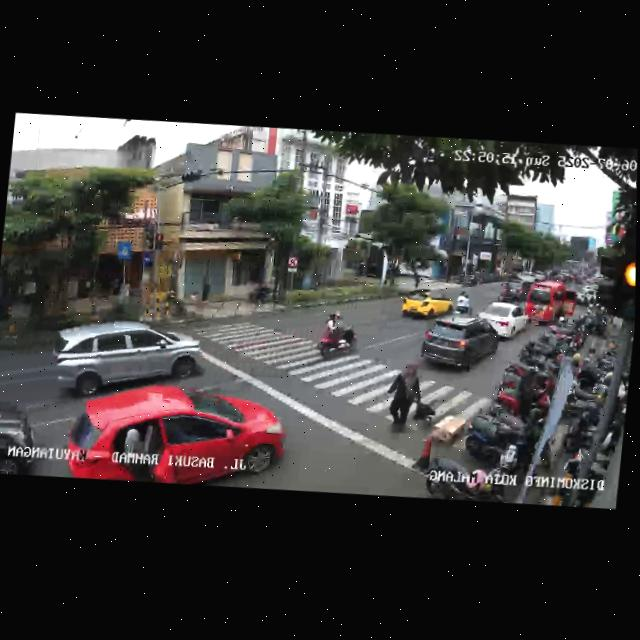car: (66, 373, 289, 495), (47, 310, 205, 407), (418, 312, 501, 376), (0, 390, 42, 476), (524, 278, 581, 330), (476, 299, 529, 342), (400, 286, 455, 320), (499, 276, 528, 304)
motorcycle: (64, 397, 118, 479), (316, 310, 360, 363), (454, 291, 473, 315)
person: (383, 358, 424, 432)
